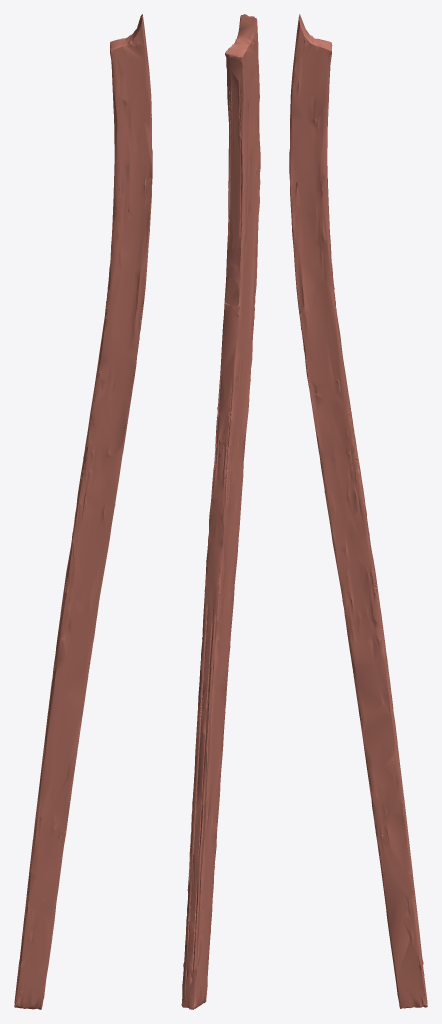
Rendered from digestive.neck.glb.
3 views of the same model, side by side, from view 1: azimuth 90°, elevation 25°; view 2: azimuth 150°, elevation 25°; view 3: azimuth 270°, elevation 25° (orthographic). The views are drawn at different scales.
Visible parts, largest first — view 1: pharyngeal_raphe; view 2: pharyngeal_raphe; view 3: pharyngeal_raphe.
Boxes of the visible parts, left/top/right/bottom form: pharyngeal_raphe: left=14, top=14, right=152, bottom=1009; pharyngeal_raphe: left=181, top=14, right=260, bottom=1009; pharyngeal_raphe: left=289, top=14, right=427, bottom=1008.
Bounding box in the file's own units: 0.00224 × 0.1148 × 0.0145.
